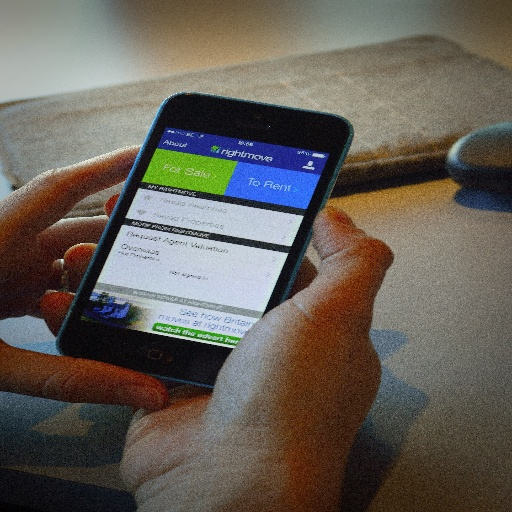hand: (142, 236, 412, 512), (0, 143, 169, 409)
